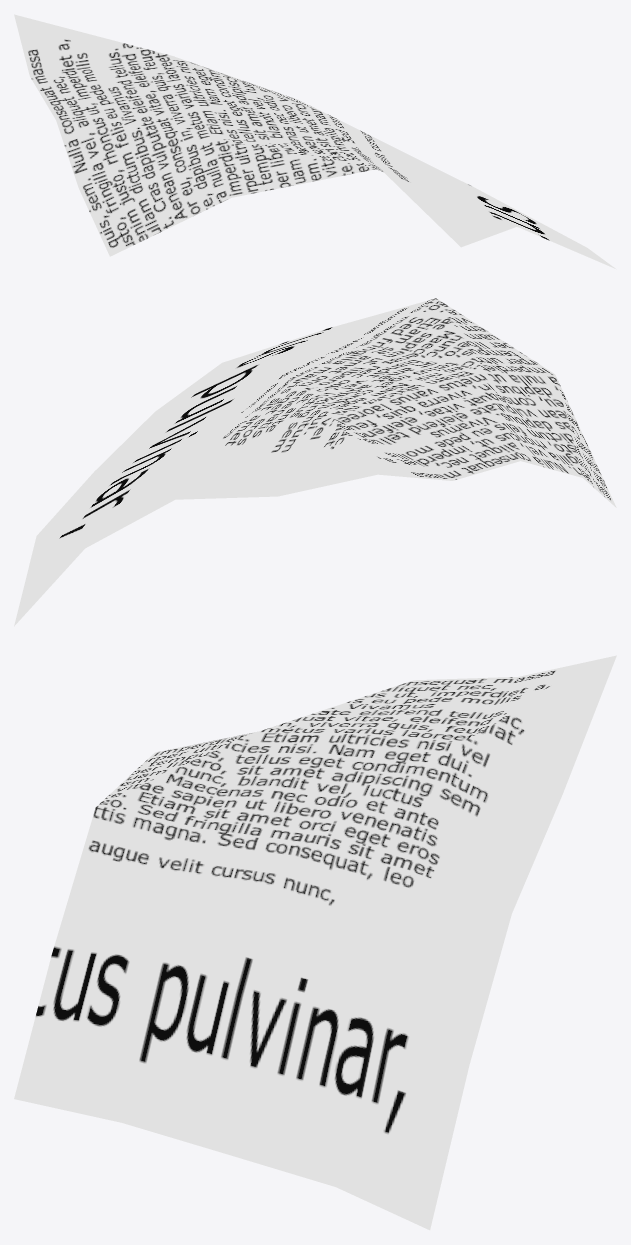
3 renders of one model, top to bottom at view 1: azimuth 30°, elevation 25°; view 2: azimuth 150°, elevation 25°; view 3: azimuth 270°, elevation 25°, orthographic. The views are drawn at different scales.
Visible parts, largest first — view 1: Plane.023; view 2: Plane.023; view 3: Plane.023.
Boxes of the visible parts, <box> form: Plane.023: <box>14,14,616,269</box>; Plane.023: <box>14,298,616,626</box>; Plane.023: <box>14,655,616,1230</box>.
Bounding box in the file's own units: 0.8331 × 0.4846 × 0.7709.
Materials: 1 (1 with a texture image).
